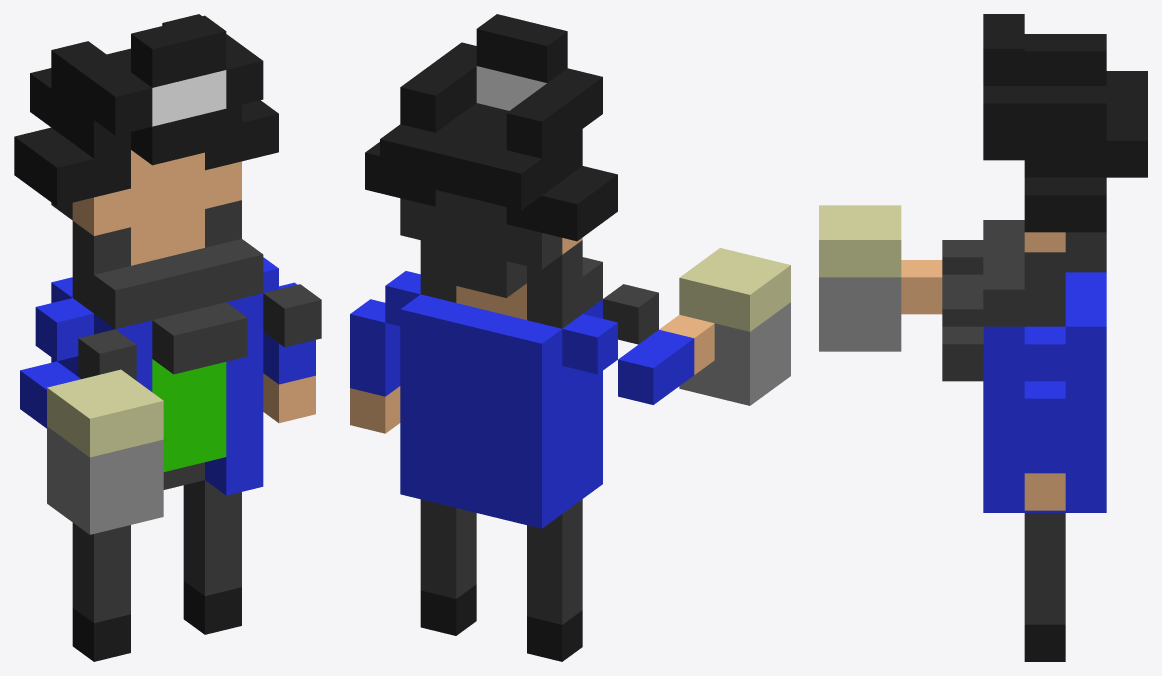
File: scummBarPirateKing01.obj
The picture shows the model from 3 angles, left to right: view 1: azimuth 30°, elevation 25°; view 2: azimuth 150°, elevation 25°; view 3: azimuth 270°, elevation 25°; orthographic projection. The views are drawn at different scales.
Size of the model in its own units: 9 by 16 by 8.
1 material, 1 textured.
